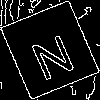N: (25, 25, 78, 82)
